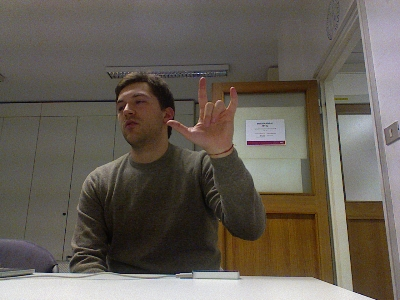我爱你: (164, 75, 238, 153)
